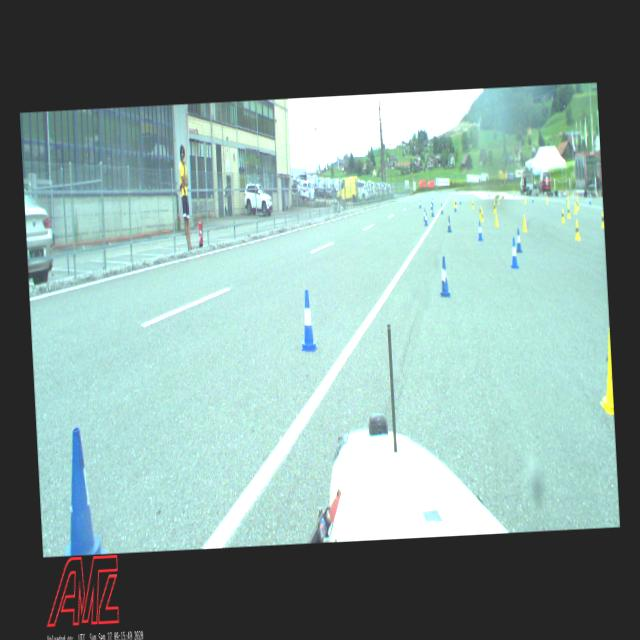blue_cone: (57, 426, 106, 556), (298, 289, 318, 352), (438, 257, 451, 297), (510, 238, 520, 268), (515, 228, 522, 252), (477, 221, 483, 241), (446, 215, 452, 232), (424, 212, 428, 226), (422, 208, 426, 222), (431, 206, 434, 216), (441, 204, 444, 214), (459, 197, 462, 204), (454, 202, 456, 212), (419, 200, 421, 208)
yellow_cone: (596, 328, 614, 414), (574, 220, 580, 240), (522, 215, 527, 231), (560, 209, 566, 222), (600, 212, 604, 228), (566, 205, 570, 218), (494, 212, 498, 225), (574, 203, 578, 214), (481, 211, 484, 222), (472, 200, 474, 210), (455, 199, 457, 208), (453, 198, 455, 206), (546, 196, 548, 204)
